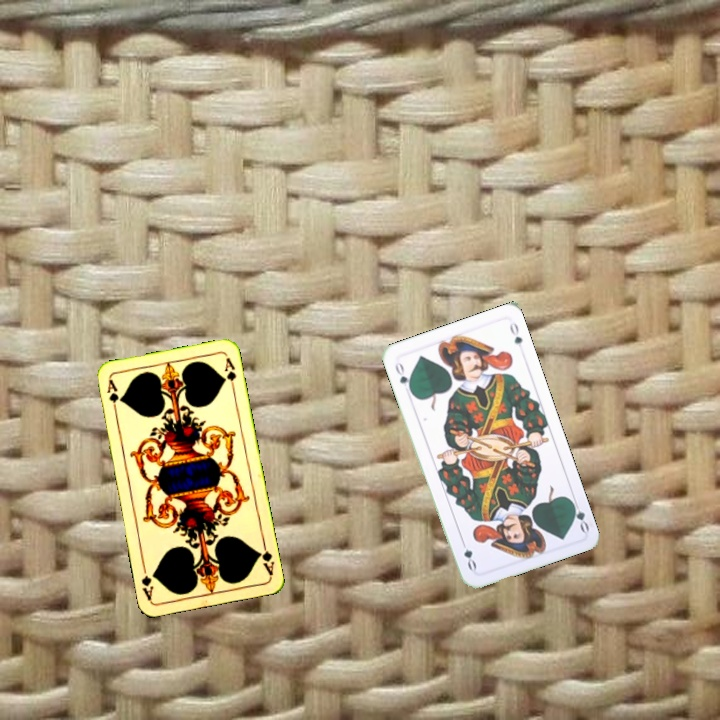GA: (254, 538, 276, 578), (103, 375, 121, 416)
GO: (567, 495, 592, 535), (391, 358, 414, 395)
